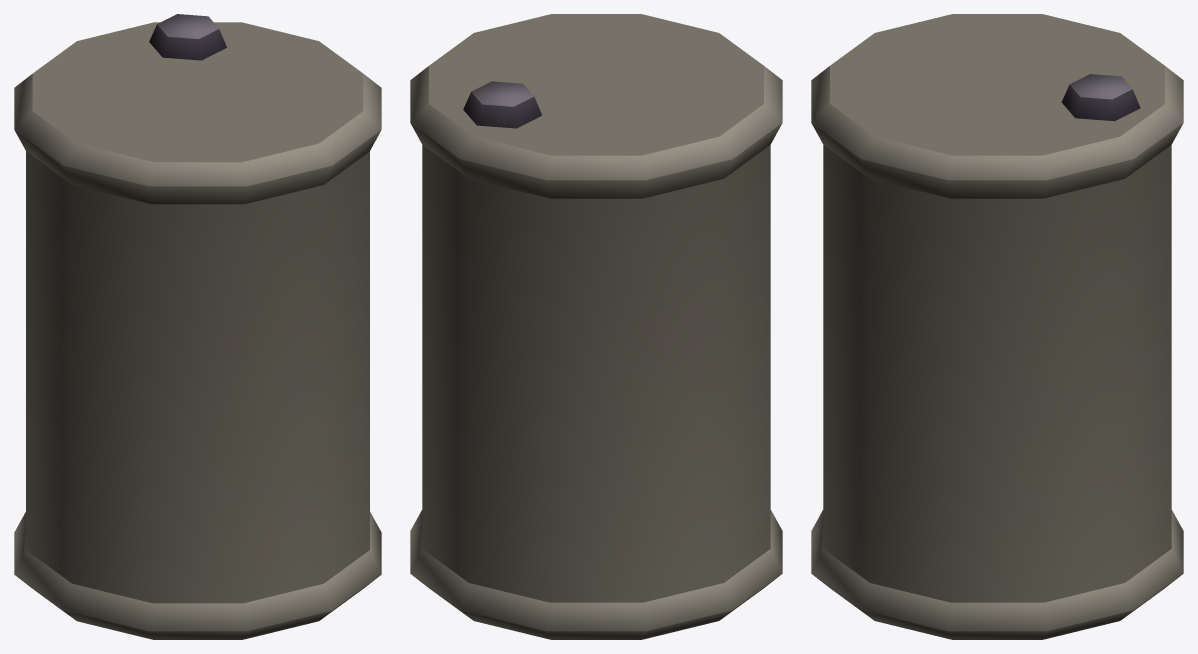
File: Barrel_1E.fbx
3 renders of one model, left to right at view 1: azimuth 30°, elevation 25°; view 2: azimuth 150°, elevation 25°; view 3: azimuth 270°, elevation 25°, orthographic.
Parts seen in each view (by area): view 1: Barrel_1E; view 2: Barrel_1E; view 3: Barrel_1E.
Part boxes in pixels (x1,y1,x2,y2): Barrel_1E: [14, 14, 381, 639]; Barrel_1E: [410, 14, 782, 639]; Barrel_1E: [811, 14, 1183, 639].
Size of the model in its own units: 0.8369 by 1.25 by 0.8369.
